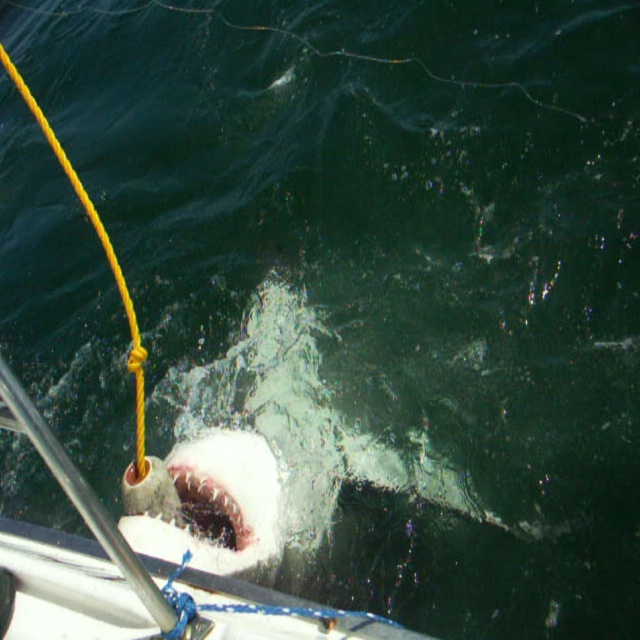Shark: (116, 425, 285, 584)
